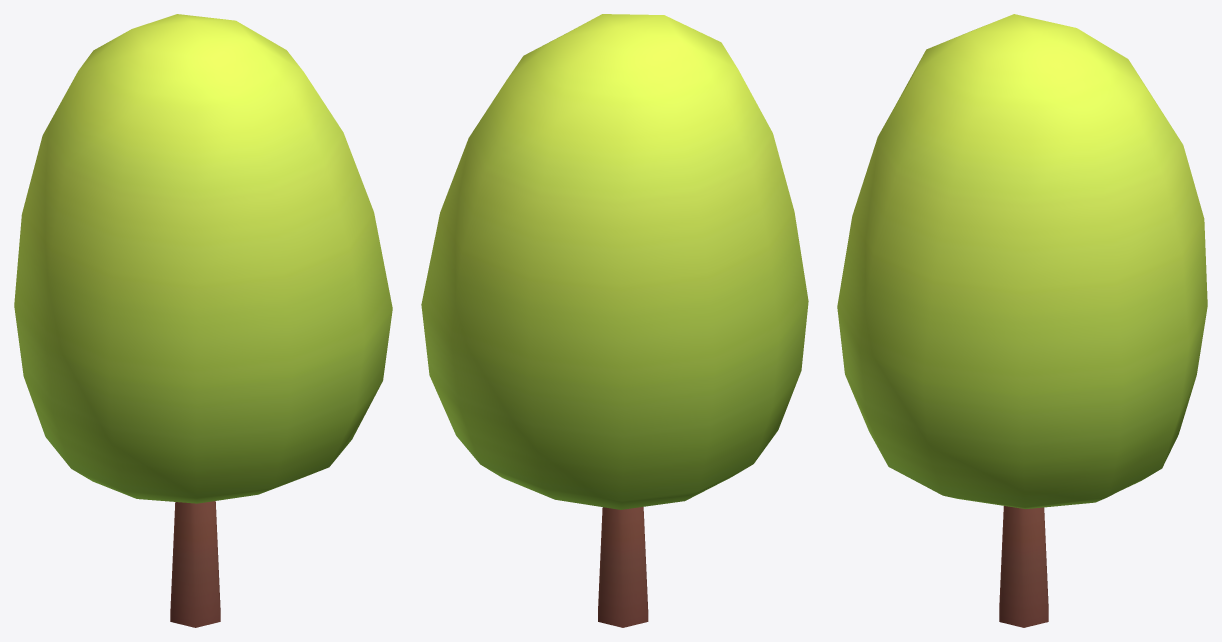
File: city2-tree-02.glb
The picture shows the model from 3 angles, left to right: view 1: azimuth 30°, elevation 25°; view 2: azimuth 150°, elevation 25°; view 3: azimuth 270°, elevation 25°; orthographic projection.
Visible parts, largest first — view 1: Tree_02; view 2: Tree_02; view 3: Tree_02.
Part boxes in pixels (left/top/right/bottom): Tree_02: left=14, top=14, right=392, bottom=627; Tree_02: left=421, top=14, right=808, bottom=627; Tree_02: left=837, top=14, right=1207, bottom=627.
Size of the model in its own units: 3.66 by 6.38 by 3.67.
1 material, 1 textured.
